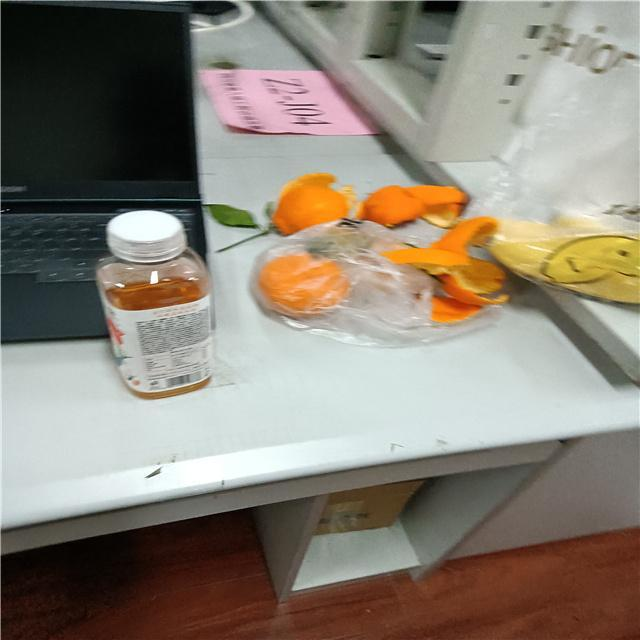orange-peel: (380, 214, 514, 328), (200, 169, 361, 251), (369, 179, 470, 224)
